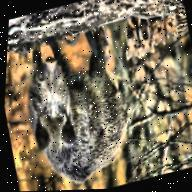boar: (8, 20, 147, 192)
